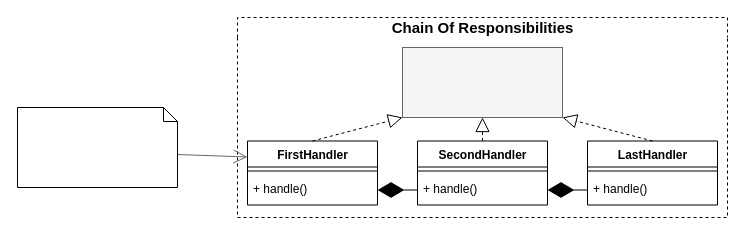
This 745x235 diagram has some shape labels left out. Here are the shapes that lost their labels. From the top down, the centre of each, then its label:
the point at 482,82: <<Interface>> Handler + handle()
the point at 97,147: Context object = new FirstHandler() object.handle()
